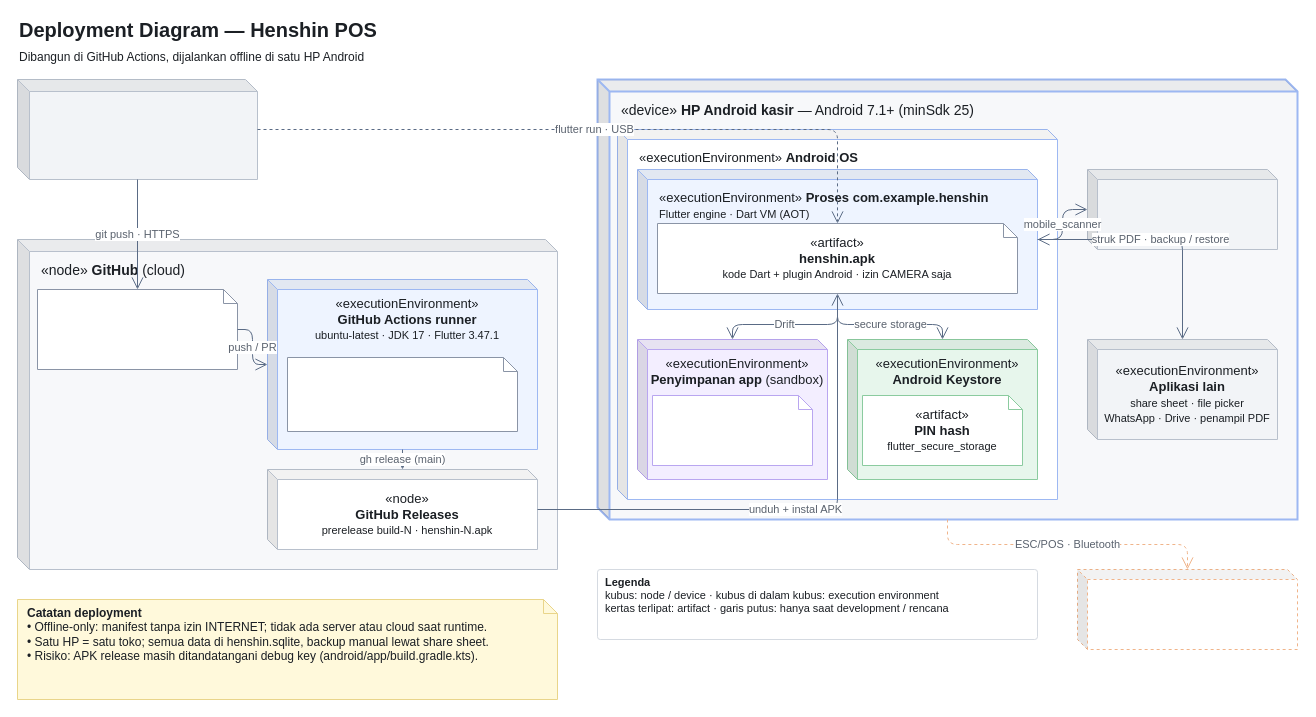
Image size: 1316x717. Some labels were removed from this diagram. The shapes that lost their labels are listed below. From the top down, each one's centre as x and y in pixels, then its label:
At [137,129]: "«device» PC Developer Flutter SDK · Android SDK · git".
At [1182,209]: "«device» Kamera scan barcode".
At [137,329]: "«artifact» Repo henshin branch main · develop".
At [402,394]: "«artifact» app-release.apk analyze → test → build apk --release".
At [732,430]: "«artifact» henshin.sqlite app-support dir · Drift".
At [1187,609]: "«device» Printer thermal Bluetooth rencana — belum ada (ADR-023)".
